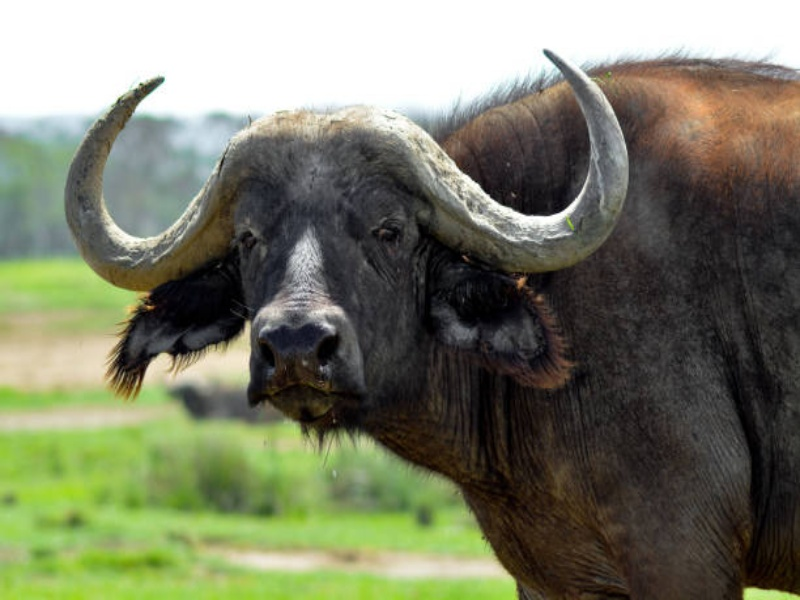buffalo: (66, 41, 788, 585)
